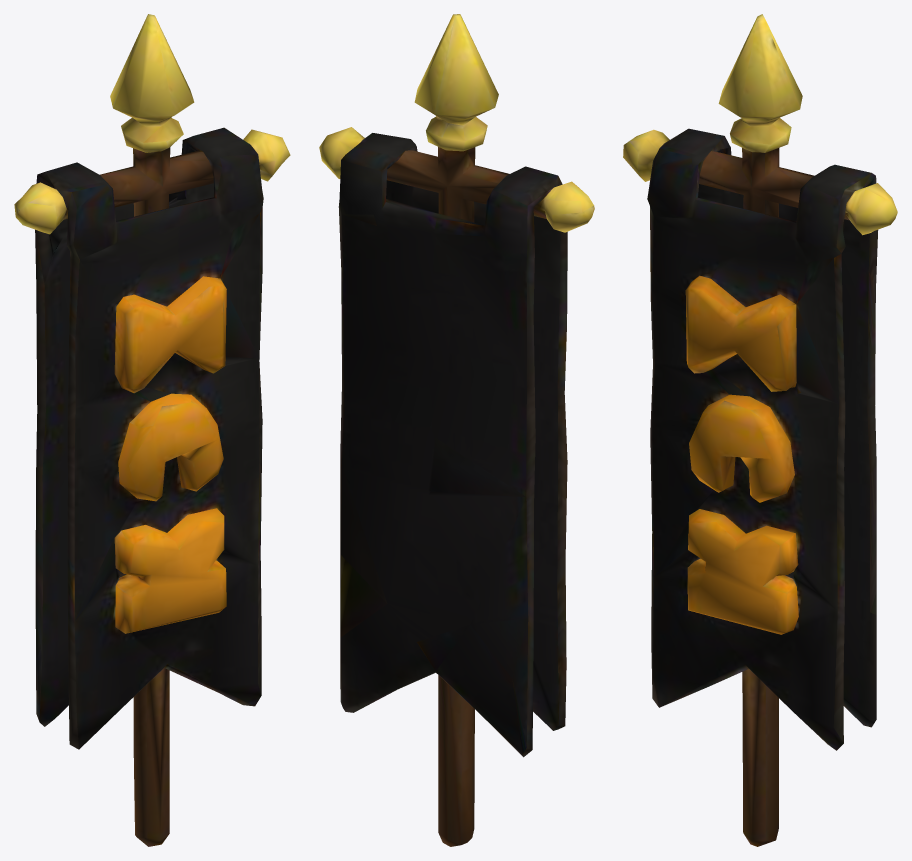
The model's file is lg-hollow-banner.glb.
3 views of the same model, side by side, from view 1: azimuth 30°, elevation 25°; view 2: azimuth 150°, elevation 25°; view 3: azimuth 330°, elevation 25° (orthographic).
Visible parts, largest first — view 1: geometry_0; view 2: geometry_0; view 3: geometry_0.
Part boxes in pixels (x1,y1,x2,y2): geometry_0: (14,14,290,846); geometry_0: (319,14,594,846); geometry_0: (623,14,897,846).
Size of the model in its own units: 0.3427 by 1 by 0.1143.
Materials: 1 (1 with a texture image).
